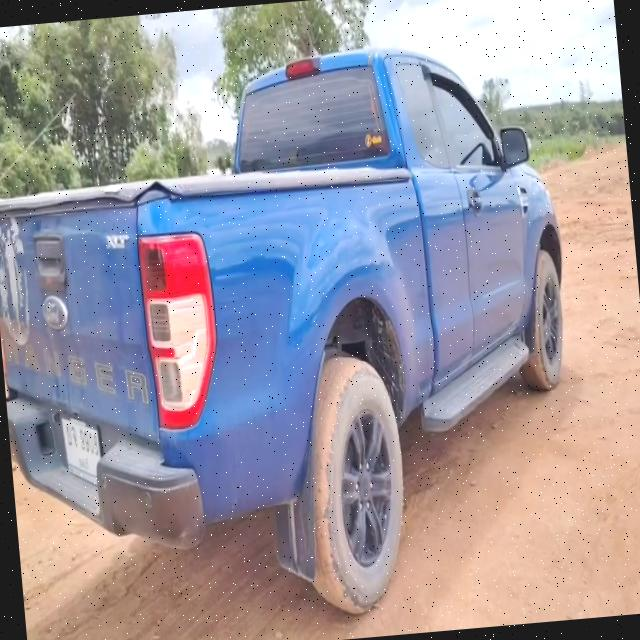Digit: (78, 425, 100, 456)
Licenseplate: (59, 414, 106, 489)
Provincename: (76, 454, 90, 472)
Thaichar: (65, 420, 77, 446)
